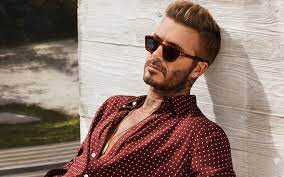g.y: (144, 36, 161, 53)
